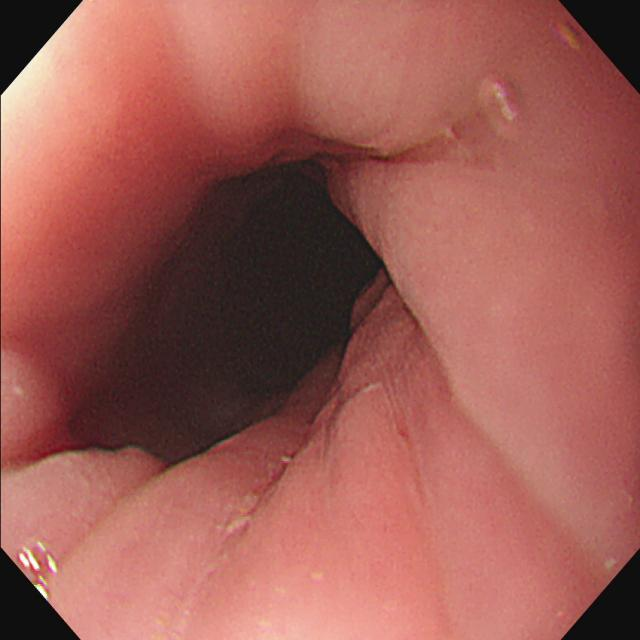E: (116, 150, 399, 478)
U: (21, 539, 58, 602)
